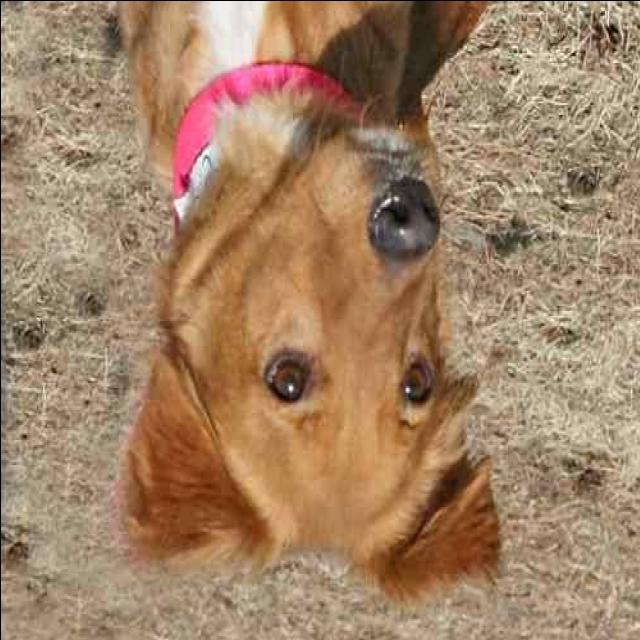dog: (79, 0, 516, 622)
